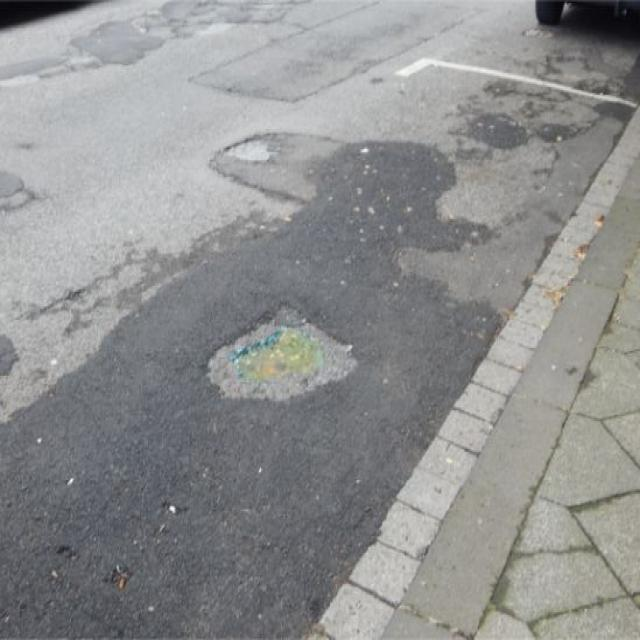pothole: (202, 298, 368, 398)
